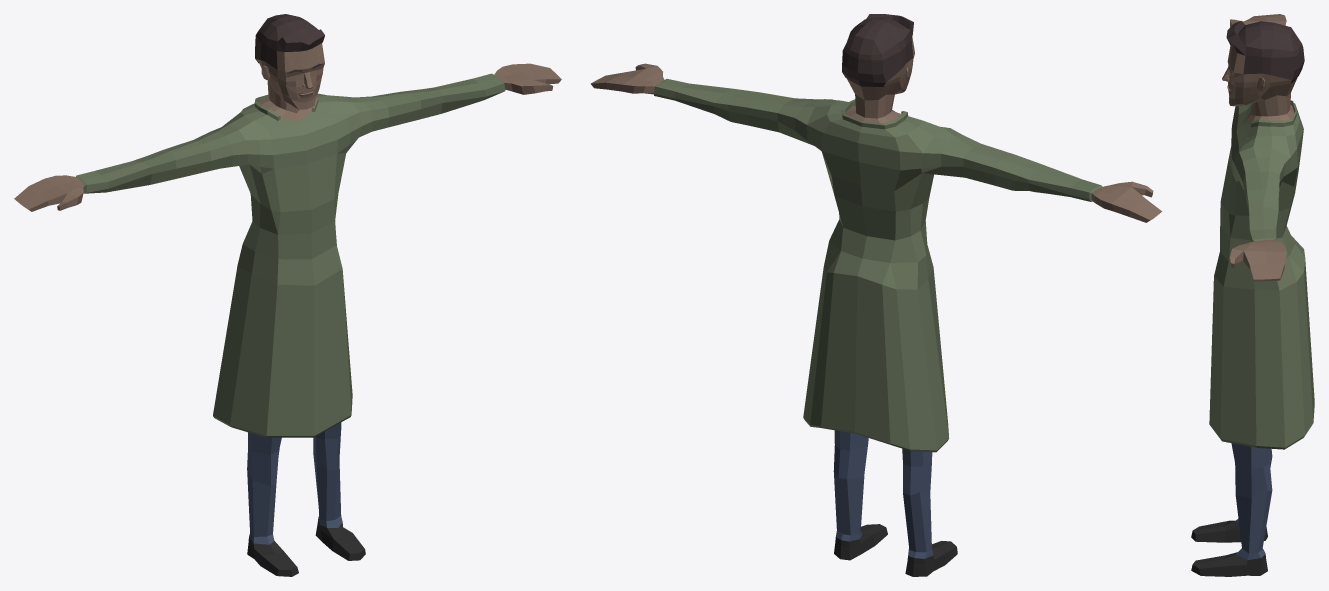
Rendered from Male_LongSleeve.gltf.
The picture shows the model from 3 angles, left to right: view 1: azimuth 30°, elevation 25°; view 2: azimuth 150°, elevation 25°; view 3: azimuth 270°, elevation 25°; orthographic projection. The views are drawn at different scales.
Parts seen in each view (by area): view 1: BaseHuman; view 2: BaseHuman; view 3: BaseHuman.
Part boxes in pixels (x1,y1,x2,y2): BaseHuman: (14,14,561,576); BaseHuman: (590,14,1161,576); BaseHuman: (1191,14,1314,576).
Size of the model in its own units: 520 by 484 by 103.
